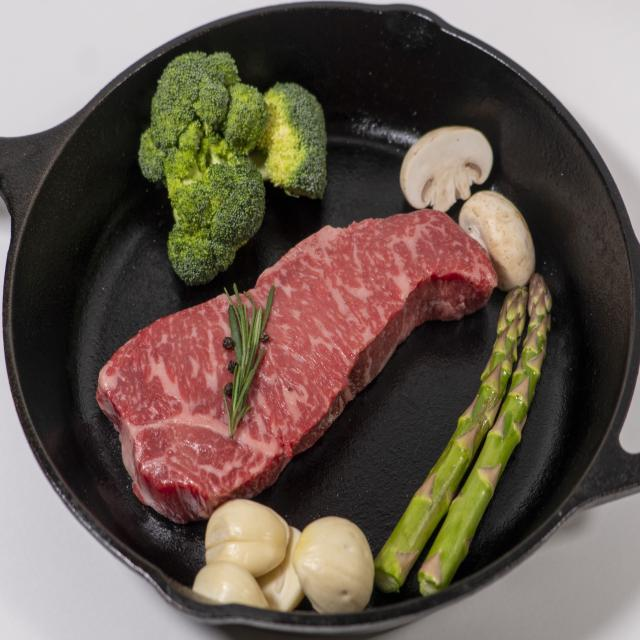beef: (192, 295, 382, 440)
